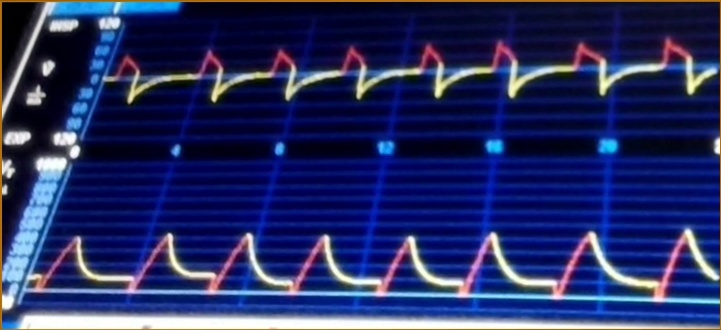Flow: (118, 31, 716, 125)
Leakage Volume: (53, 198, 716, 311)
